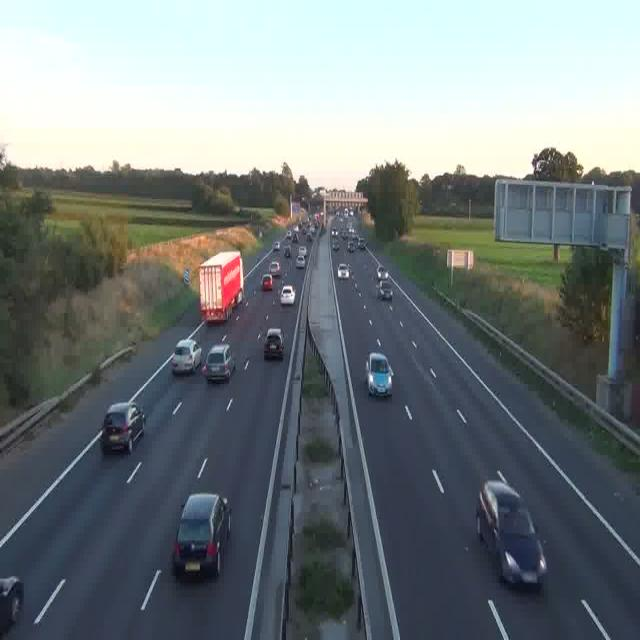car: (476, 481, 546, 588), (173, 494, 231, 579), (101, 402, 145, 453), (0, 576, 22, 634), (365, 353, 393, 396), (171, 339, 203, 374), (205, 342, 233, 380), (264, 328, 286, 359), (280, 282, 296, 306), (378, 274, 392, 300), (262, 274, 274, 292), (377, 266, 389, 284), (338, 262, 350, 279), (274, 258, 286, 274), (295, 254, 304, 268), (298, 248, 307, 261), (332, 240, 340, 252), (349, 240, 357, 252), (360, 239, 368, 250), (308, 230, 314, 243), (331, 227, 337, 238)
truck: (198, 250, 242, 322)
